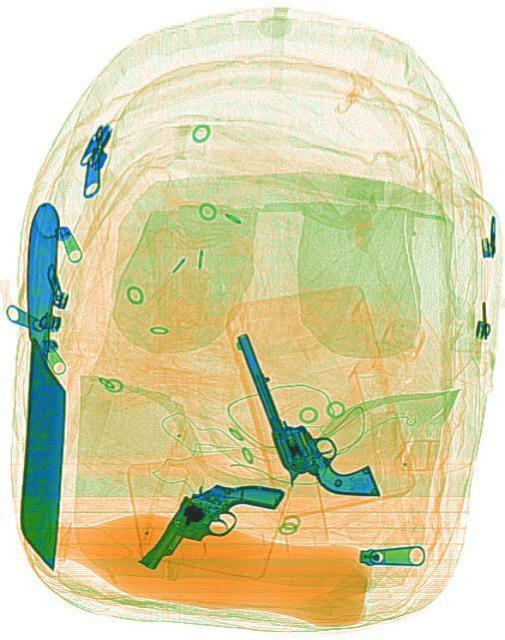Gun: (229, 298, 380, 534), (126, 454, 287, 574)
Knife: (2, 201, 82, 569)
